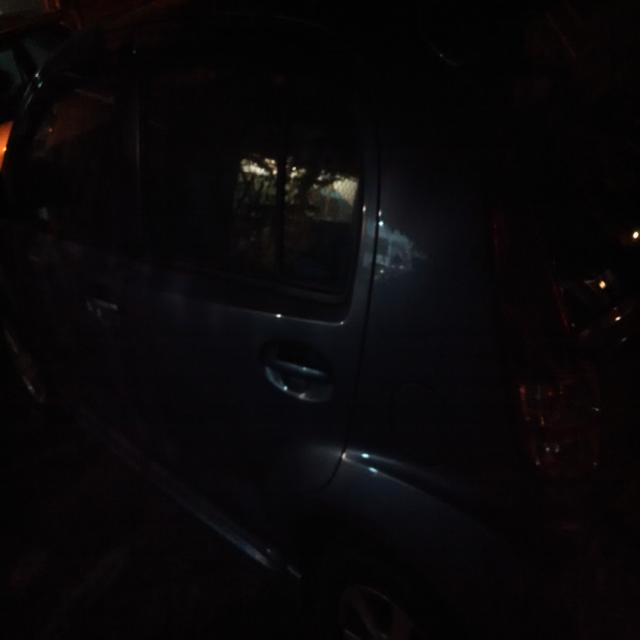Car: (1, 11, 626, 626)
